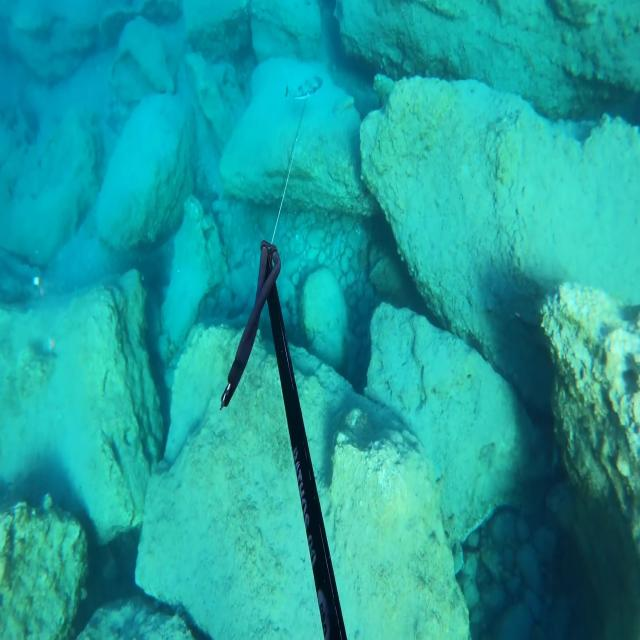Balon Baligi: (285, 76, 323, 100)
